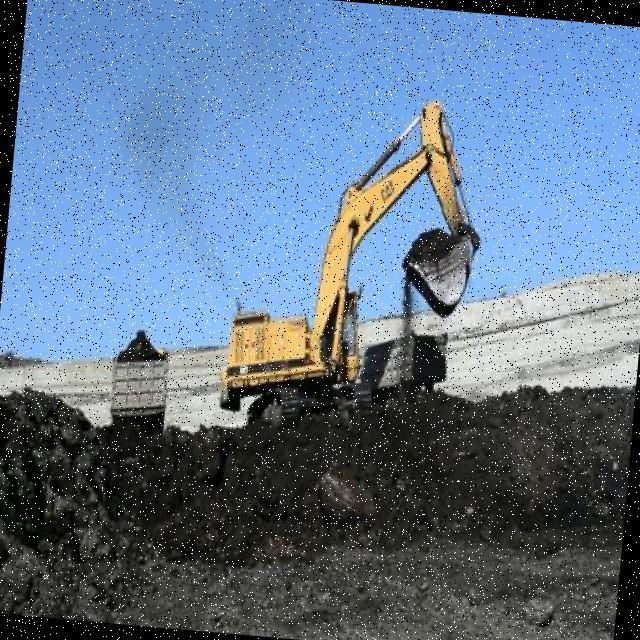Dump Truck: (102, 326, 177, 430), (357, 326, 449, 400)
Excavator: (214, 83, 495, 444)
